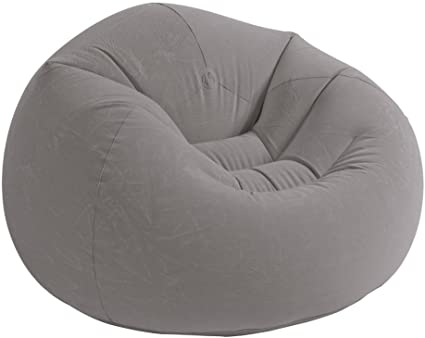empty_bagchair: (7, 1, 420, 334)
